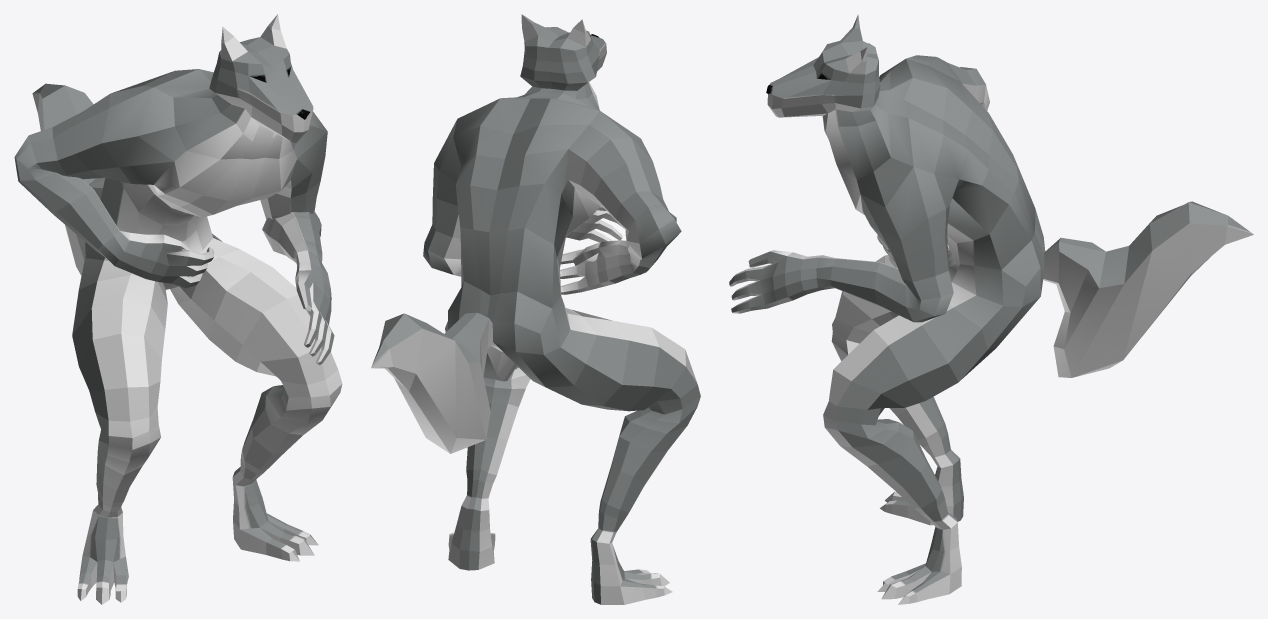
The model's file is WolfIdle_(89).obj.
3 renders of one model, left to right at view 1: azimuth 30°, elevation 25°; view 2: azimuth 150°, elevation 25°; view 3: azimuth 270°, elevation 25°, orthographic. The views are drawn at different scales.
Visible parts, largest first — view 1: Box001; view 2: Box001; view 3: Box001.
Part boxes in pixels (x1=…): Box001: x1=14, y1=14, x2=342, y2=604; Box001: x1=371, y1=14, x2=700, y2=604; Box001: x1=729, y1=14, x2=1253, y2=604.
Bounding box in the file's own units: 69.23 × 132 × 116.
